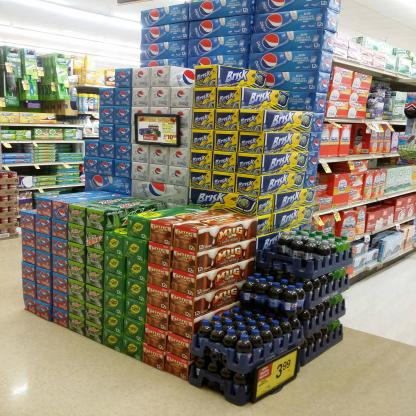Void: (228, 66, 289, 86), (350, 126, 369, 155), (108, 215, 126, 232), (173, 68, 194, 82), (22, 166, 56, 174), (56, 142, 77, 152), (331, 162, 346, 172), (7, 144, 22, 152)
